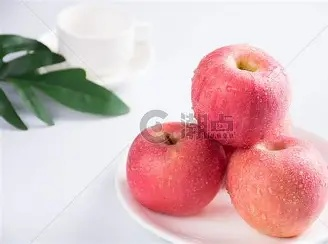ripe_apple: (225, 134, 328, 240), (188, 43, 288, 148), (119, 120, 226, 216)
